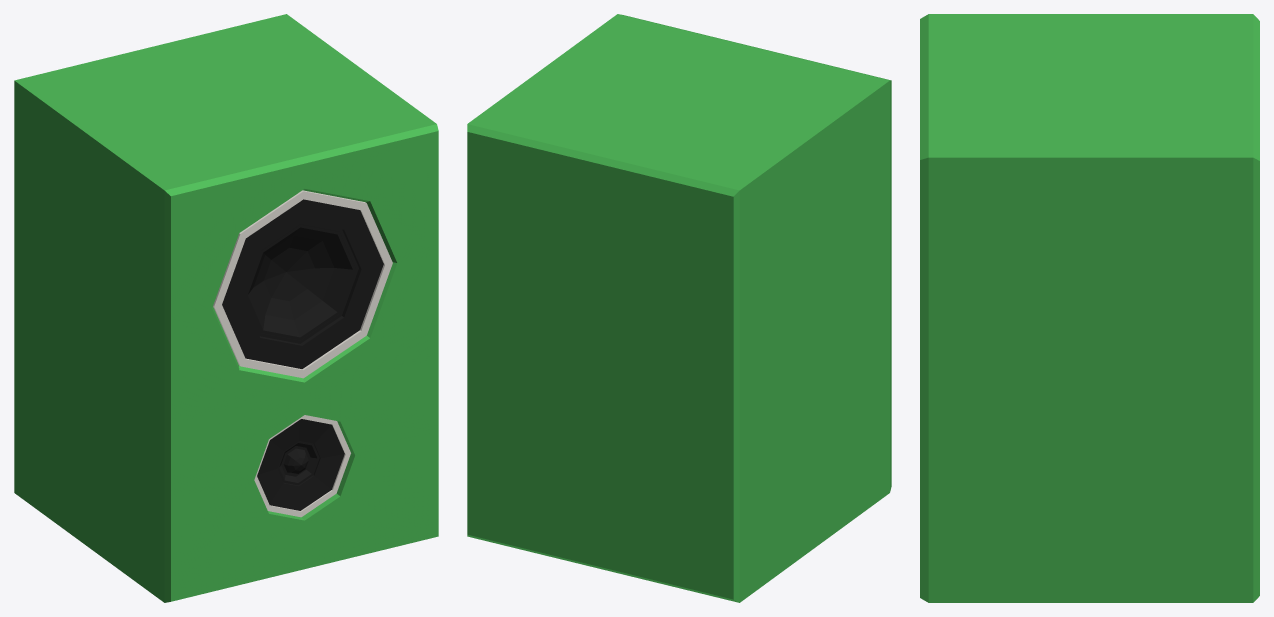
File: stereo.gltf
The picture shows the model from 3 angles, left to right: view 1: azimuth 30°, elevation 25°; view 2: azimuth 150°, elevation 25°; view 3: azimuth 270°, elevation 25°; orthographic projection. The views are drawn at different scales.
Visible parts, largest first — view 1: hifiStereo; view 2: hifiStereo; view 3: hifiStereo.
Part boxes in pixels (x1,y1,x2,y2): hifiStereo: (14,14,438,602); hifiStereo: (467,14,891,602); hifiStereo: (920,14,1259,602).
Size of the model in its own units: 0.2712 by 0.3924 by 0.2712.
